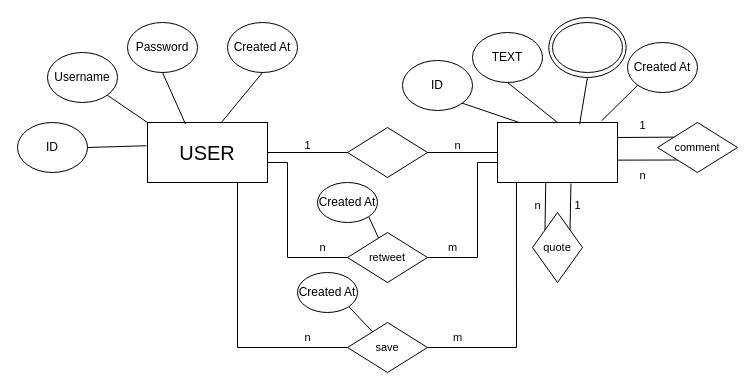
Some shapes in this 755 by 390 pixel diagram are drawn without their labels. The box of each missing label's shape, as (x1, y1, x2, y2) in pixels:
Likes: (552, 22, 622, 72)
POST: (496, 122, 618, 182)
tweet: (346, 126, 428, 178)
